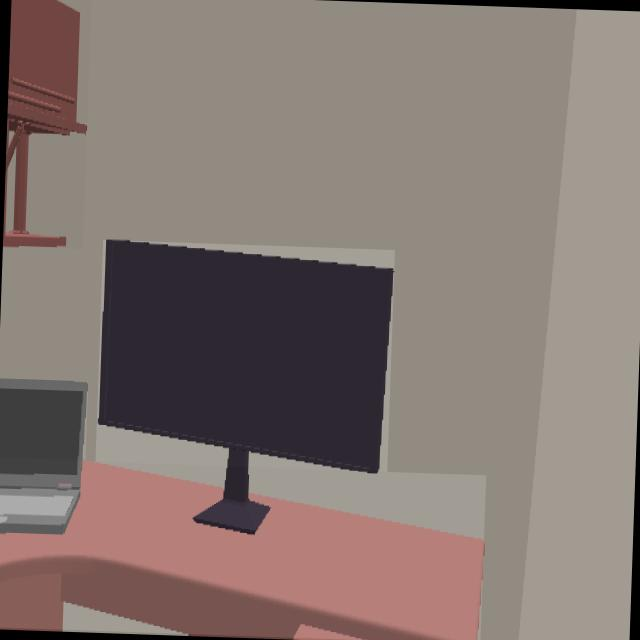cabinet: (3, 0, 87, 247)
laptop: (0, 378, 88, 539)
monitor: (96, 240, 394, 535)
table: (0, 461, 483, 640)
